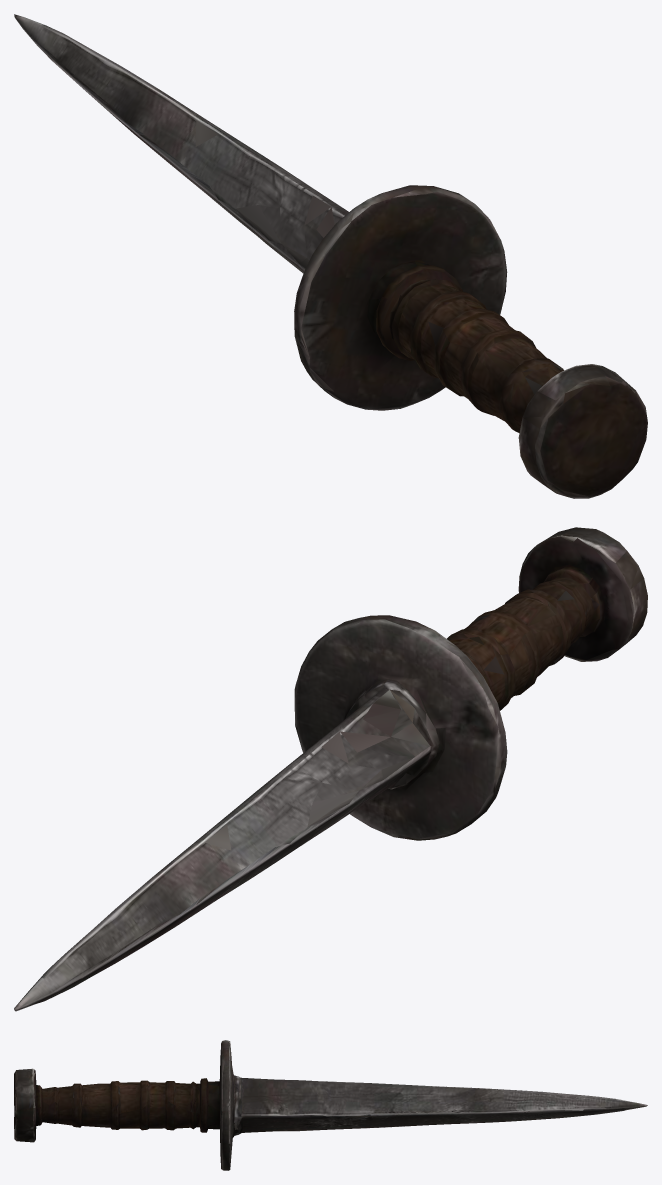
Rendered from dagger.glb.
3 renders of one model, top to bottom at view 1: azimuth 30°, elevation 25°; view 2: azimuth 150°, elevation 25°; view 3: azimuth 270°, elevation 25°, orthographic. The views are drawn at different scales.
Parts seen in each view (by area): view 1: world; view 2: world; view 3: world.
Boxes of the visible parts, x1,y1,x2,y2 form: world: [14, 14, 647, 498]; world: [14, 527, 647, 1011]; world: [14, 1040, 647, 1170].
Size of the model in its own units: 0.0827 by 0.0821 by 0.4.
Materials: 1 (1 with a texture image).
